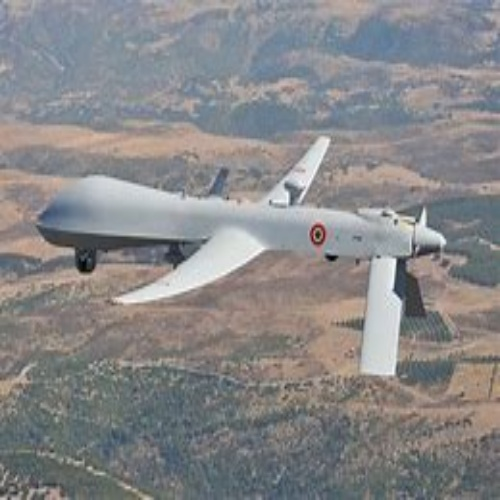uav: (31, 137, 451, 377)
